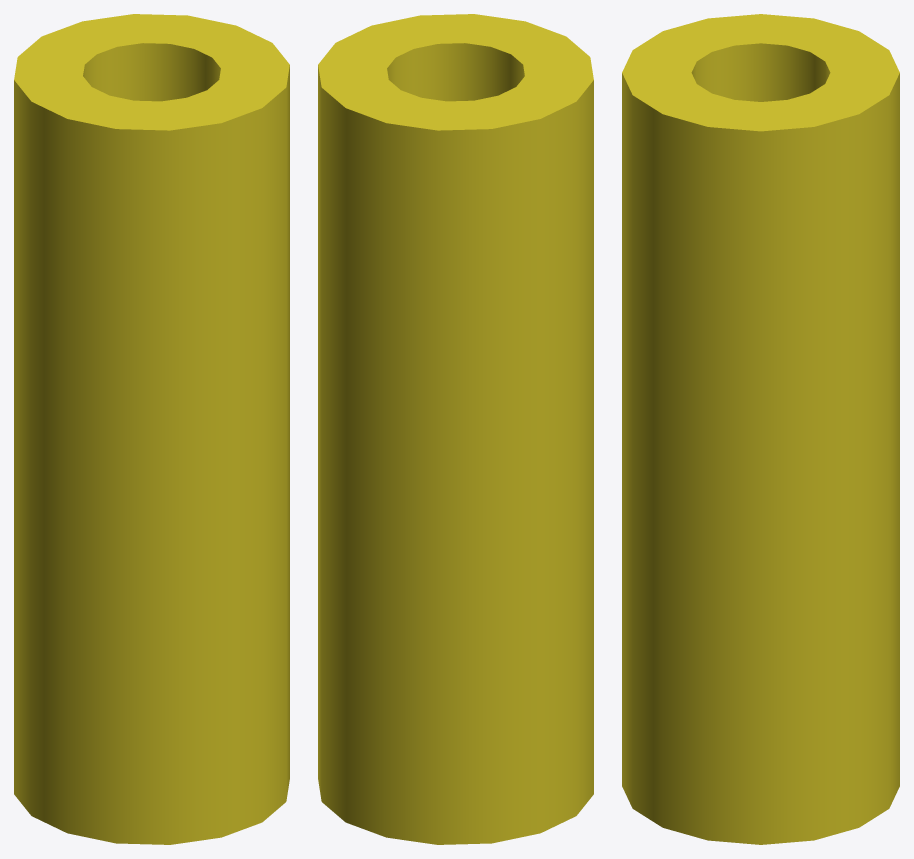
Rendered from CONGDONGLUN22_MIR_ASM_1_ASM_1_2.gltf.
3 views of the same model, side by side, from view 1: azimuth 30°, elevation 25°; view 2: azimuth 150°, elevation 25°; view 3: azimuth 270°, elevation 25° (orthographic).
Visible parts, largest first — view 1: mesh3204, mesh3203, mesh3202; view 2: mesh3204, mesh3203, mesh3202; view 3: mesh3204, mesh3203, mesh3202.
Boxes of the visible parts, x1,y1,x2,y2 form: mesh3204: [14, 65, 289, 844]; mesh3203: [14, 14, 289, 130]; mesh3202: [83, 43, 220, 101]; mesh3204: [318, 65, 593, 844]; mesh3203: [318, 14, 593, 130]; mesh3202: [387, 43, 524, 101]; mesh3204: [622, 73, 899, 844]; mesh3203: [622, 14, 899, 131]; mesh3202: [691, 43, 830, 101].
Bounding box in the file's own units: 0.006 × 0.017 × 0.006.
